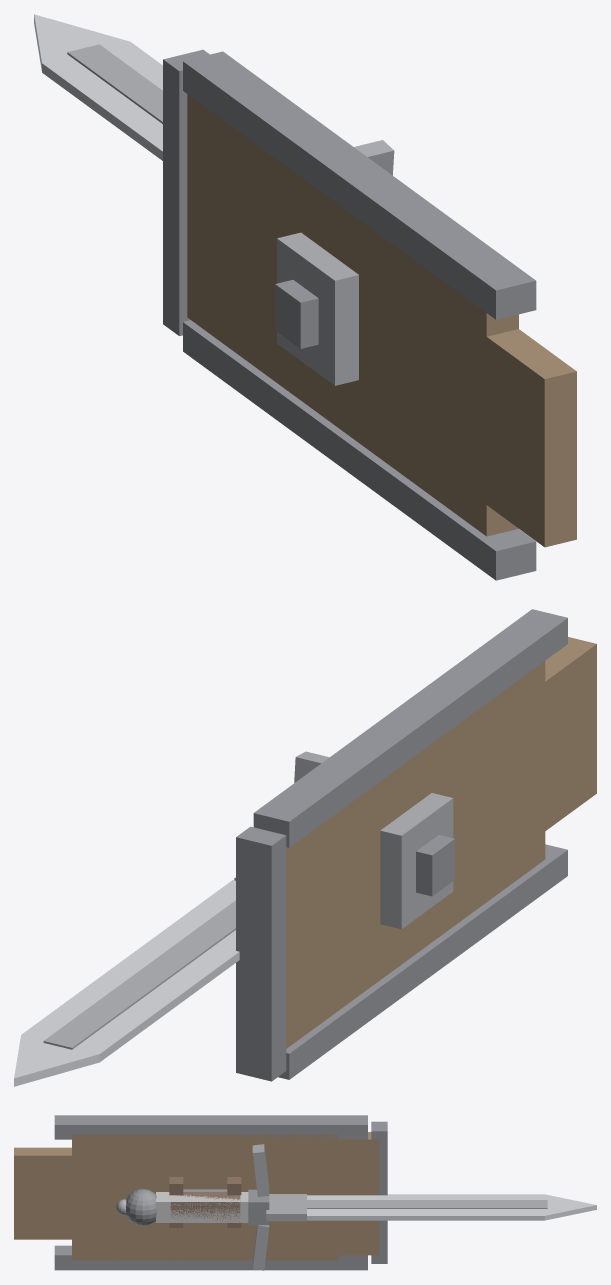
The model's file is art_iron_broadsword.fbx.
The picture shows the model from 3 angles, top to bottom: view 1: azimuth 30°, elevation 25°; view 2: azimuth 150°, elevation 25°; view 3: azimuth 270°, elevation 25°; orthographic projection. The views are drawn at different scales.
Parts seen in each view (by area): view 1: ShieldFaceCenter, ShieldRimLeft, ShieldFaceBottom, ShieldRimRight, ShieldBossIron, ShieldFaceTop, ShieldRimTop, BladeEdgeBack, BladeFuller, ShieldBossSpike, BladeEdgeFwd, TipBack (+2 smaller); view 2: ShieldFaceCenter, ShieldRimLeft, ShieldRimTop, ShieldRimRight, ShieldFaceBottom, ShieldBossIron, BladeFuller, BladeEdgeBack, ShieldFaceTop, BladeEdgeFwd, ShieldBossSpike, TipBack (+1 smaller); view 3: ShieldFaceCenter, ShieldRimLeft, ShieldFaceBottom, ShieldFaceTop, ShieldRimRight, BladeEdgeFwd, Handle, BladeFuller, HandleS, BladeEdgeBack, ShieldRimTop, Ricasso (+8 smaller).
Boxes of the visible parts, x1,y1,x2,y2 form: ShieldFaceCenter: (220, 118, 518, 536); ShieldRimLeft: (183, 51, 536, 319); ShieldFaceBottom: (475, 328, 576, 547); ShieldRimRight: (183, 320, 536, 580); ShieldBossIron: (277, 232, 358, 385); ShieldFaceTop: (187, 94, 225, 344); ShieldRimTop: (163, 49, 209, 335); BladeEdgeBack: (42, 56, 162, 160); BladeFuller: (67, 44, 162, 123); ShieldBossSpike: (275, 280, 318, 348); BladeEdgeFwd: (105, 41, 162, 90); TipBack: (34, 14, 80, 70); ShieldFaceCenter: (308, 661, 545, 1028); ShieldRimLeft: (253, 609, 567, 847); ShieldRimTop: (236, 826, 286, 1081); ShieldRimRight: (278, 844, 567, 1079); ShieldFaceBottom: (545, 637, 596, 830); ShieldBossIron: (380, 793, 453, 929); BladeFuller: (43, 900, 235, 1049); BladeEdgeBack: (75, 930, 239, 1061); ShieldFaceTop: (286, 834, 312, 1048); BladeEdgeFwd: (21, 880, 235, 1040); ShieldBossSpike: (416, 835, 454, 896); TipBack: (14, 1046, 99, 1086); ShieldFaceCenter: (72, 1134, 338, 1260); ShieldRimLeft: (54, 1115, 367, 1139); ShieldFaceBottom: (14, 1147, 83, 1239); ShieldFaceTop: (333, 1132, 379, 1255); ShieldRimRight: (54, 1245, 367, 1270); BladeEdgeFwd: (307, 1209, 544, 1220); Handle: (156, 1192, 248, 1222); BladeFuller: (307, 1200, 547, 1208); HandleS: (170, 1192, 240, 1222); BladeEdgeBack: (307, 1194, 544, 1199); ShieldRimTop: (371, 1121, 387, 1263); Ricasso: (266, 1194, 306, 1221).
Bounding box in the file's own units: 0.79 × 1.38 × 5.03.
